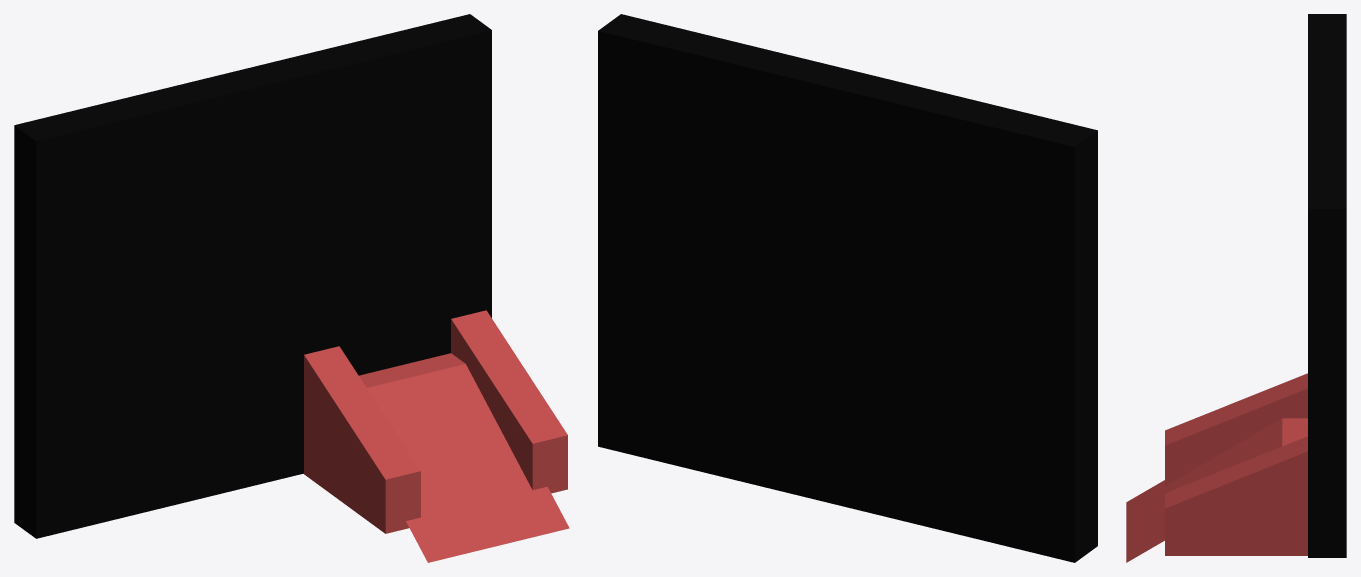
The model's file is wall5c.FBX.
3 views of the same model, side by side, from view 1: azimuth 30°, elevation 25°; view 2: azimuth 150°, elevation 25°; view 3: azimuth 270°, elevation 25° (orthographic). The views are drawn at different scales.
Parts seen in each view (by area): view 1: Object284; view 2: Object284; view 3: Object284.
Part boxes in pixels (left/top/right/bottom): Object284: left=14, top=14, right=569, bottom=562; Object284: left=598, top=14, right=1097, bottom=562; Object284: left=1126, top=14, right=1346, bottom=562.
Size of the model in its own units: 6 by 5.23 by 2.86.
